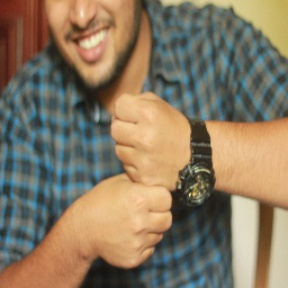G: (87, 90, 190, 269)
